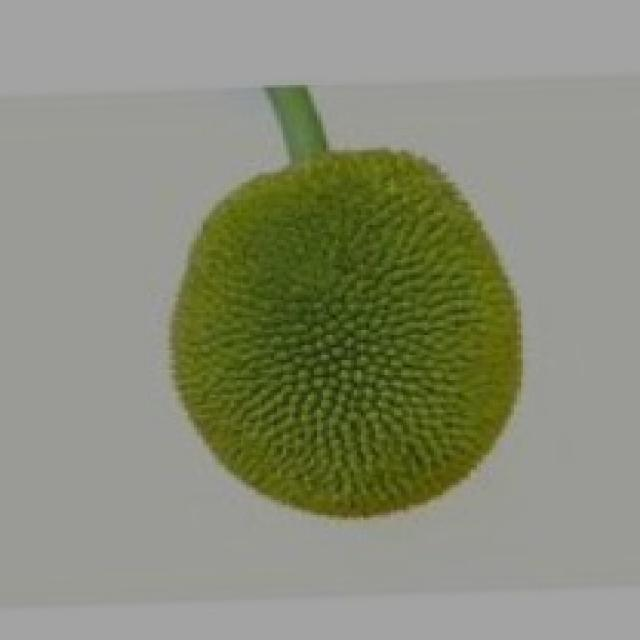Fruit: (150, 130, 548, 535)
